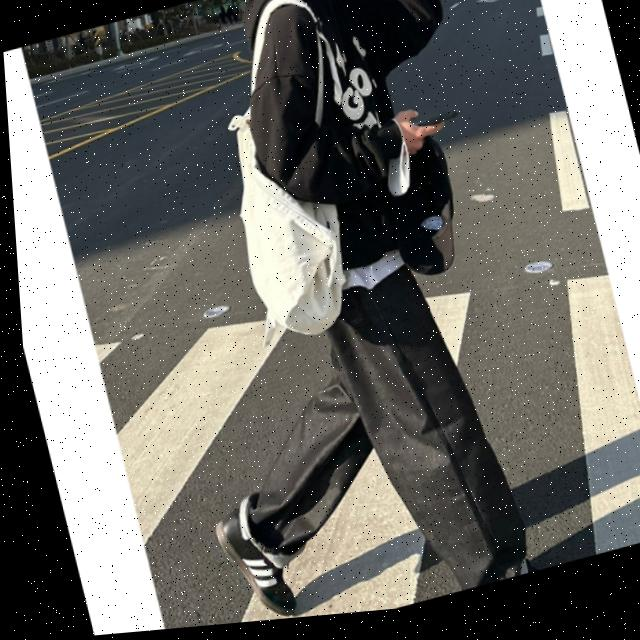backpack: (173, 67, 379, 372)
